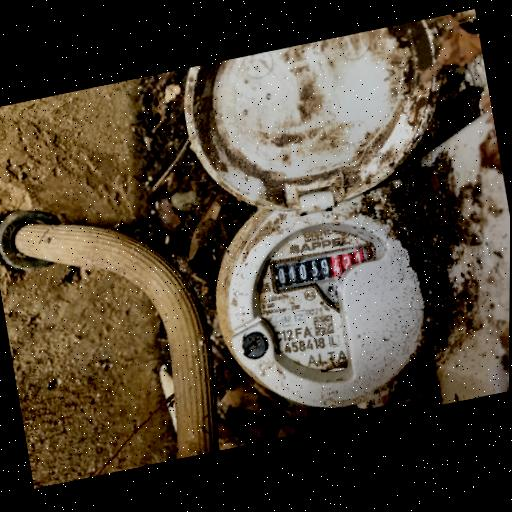0: (276, 264, 286, 286), (298, 261, 308, 283)
1: (287, 264, 297, 285), (353, 250, 364, 263)
2: (341, 252, 353, 269)
4: (330, 254, 341, 276)
5: (308, 259, 320, 280)
9: (319, 257, 331, 279)
border_water_meter_number: (271, 244, 371, 292)
